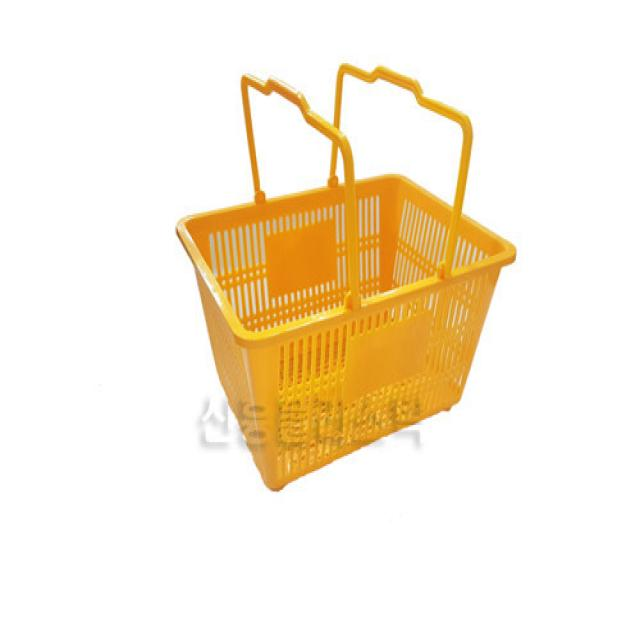basket: (126, 55, 566, 494)
